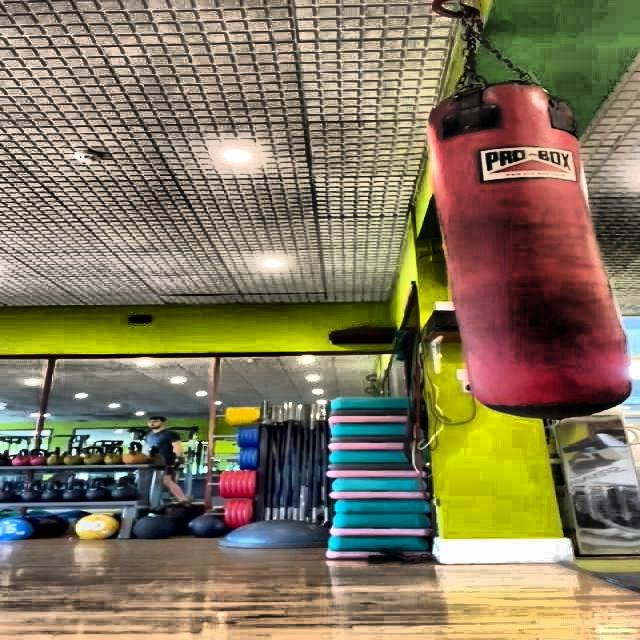boxing-bag: (432, 0, 632, 418)
